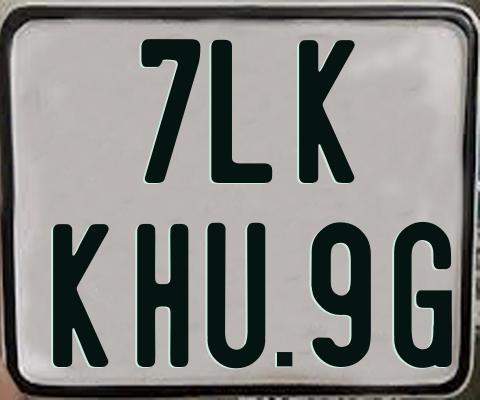7: (141, 37, 203, 185)
9: (310, 221, 375, 370)
G: (391, 222, 451, 369)
H: (134, 222, 189, 366)
K: (53, 224, 115, 373), (297, 38, 357, 182)
L: (211, 40, 274, 186)
U: (205, 222, 264, 372)
